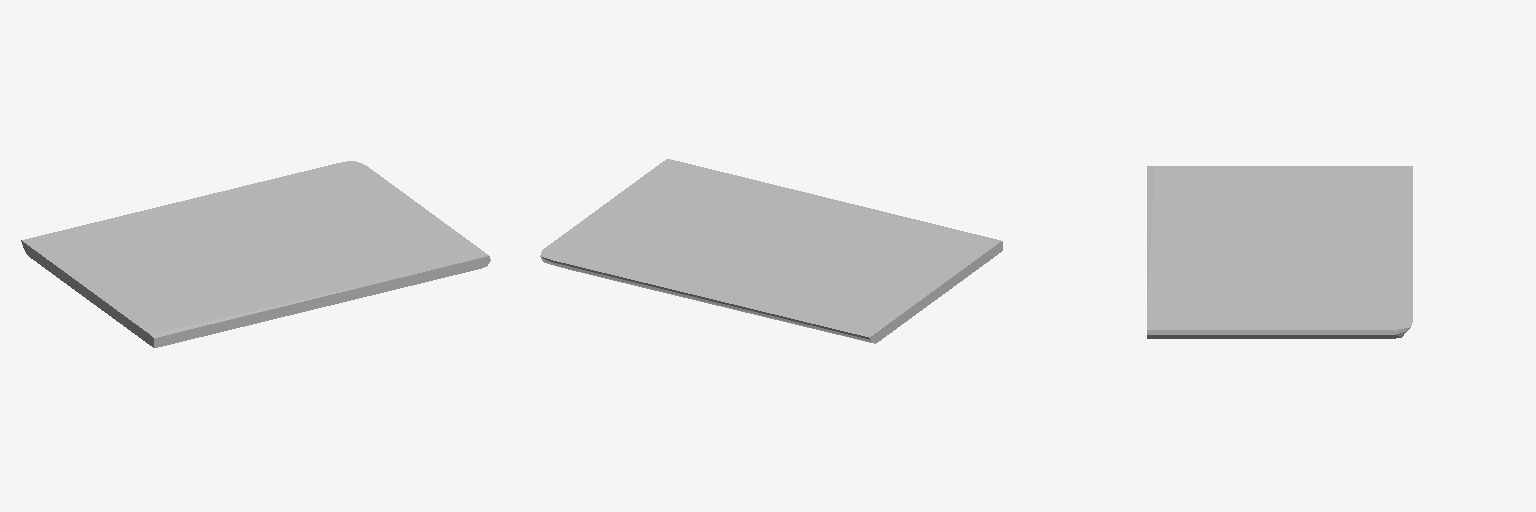
The model's file is ShipScene_collision_13.obj.
The picture shows the model from 3 angles: view 1: azimuth 30°, elevation 25°; view 2: azimuth 150°, elevation 25°; view 3: azimuth 270°, elevation 25°; orthographic projection.
Size of the model in its own units: 189 by 8.59 by 129.